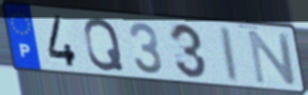3: (167, 22, 209, 82), (129, 21, 164, 75)
4: (46, 14, 78, 68)
I: (220, 24, 242, 85)
N: (245, 29, 299, 86)
Q: (82, 16, 126, 72)
